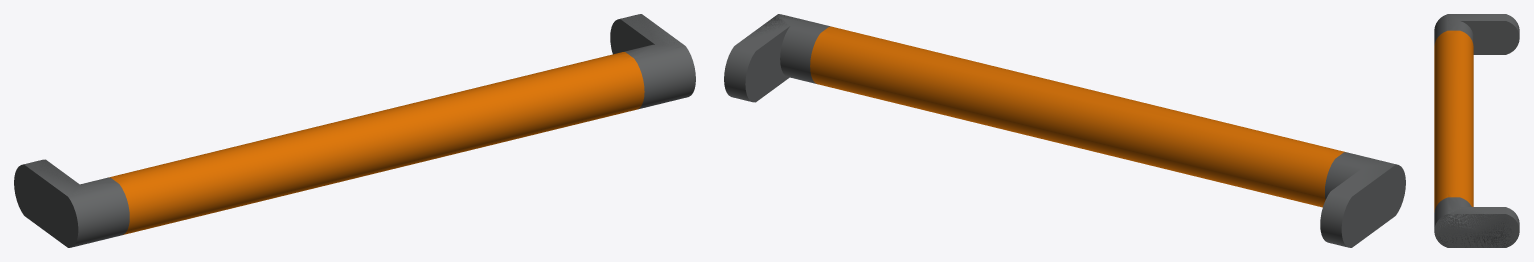
3 renders of one model, left to right at view 1: azimuth 30°, elevation 25°; view 2: azimuth 150°, elevation 25°; view 3: azimuth 270°, elevation 25°, orthographic. The views are drawn at different scales.
Parts seen in each view (by area): view 1: g3_LOD0, g3_col; view 2: g3_LOD0, g3_col; view 3: g3_LOD0, g3_col.
Part boxes in pixels (box(x1,y1,x2,y2)): g3_LOD0: box(14, 14, 695, 247); g3_col: box(14, 14, 684, 247); g3_LOD0: box(724, 14, 1405, 247); g3_col: box(735, 14, 1404, 247); g3_LOD0: box(1434, 14, 1519, 247); g3_col: box(1434, 14, 1519, 247).
Size of what is drawn, in the model's own units: 144 by 11.93 by 26.
